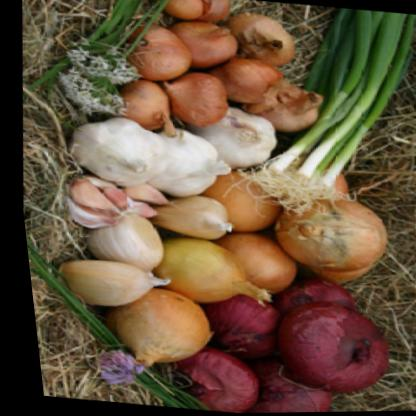garlic: (36, 112, 181, 244), (171, 90, 295, 189)
onion: (253, 185, 394, 287), (125, 228, 274, 321), (88, 280, 210, 375)
